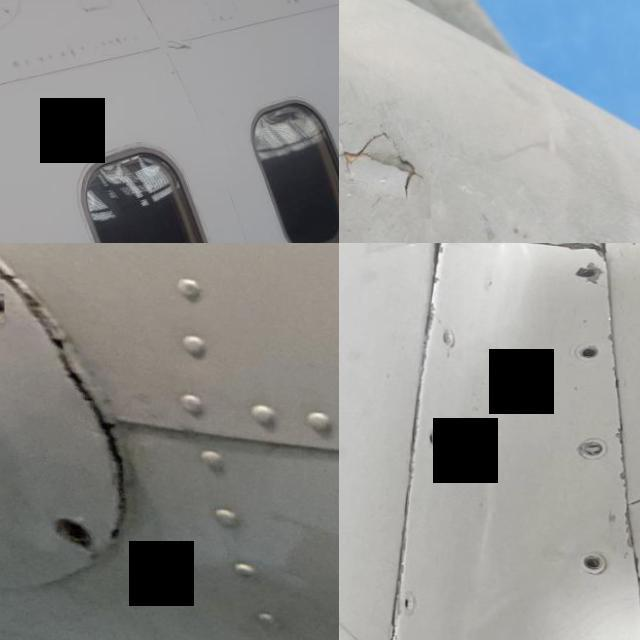Crack: (27, 244, 132, 511), (339, 114, 430, 216), (160, 38, 192, 50)
Missing_Fastener: (48, 514, 96, 547), (578, 549, 608, 570), (574, 339, 600, 359), (424, 423, 441, 449)
